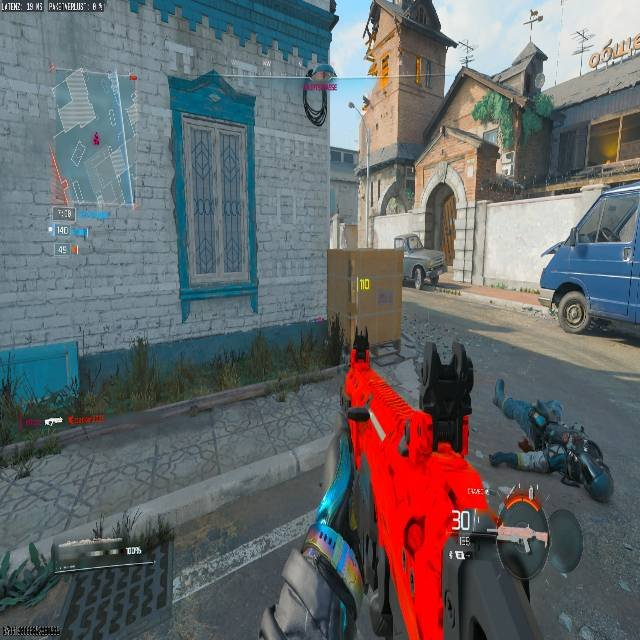head: (529, 400, 561, 437)
player: (490, 394, 612, 503)
